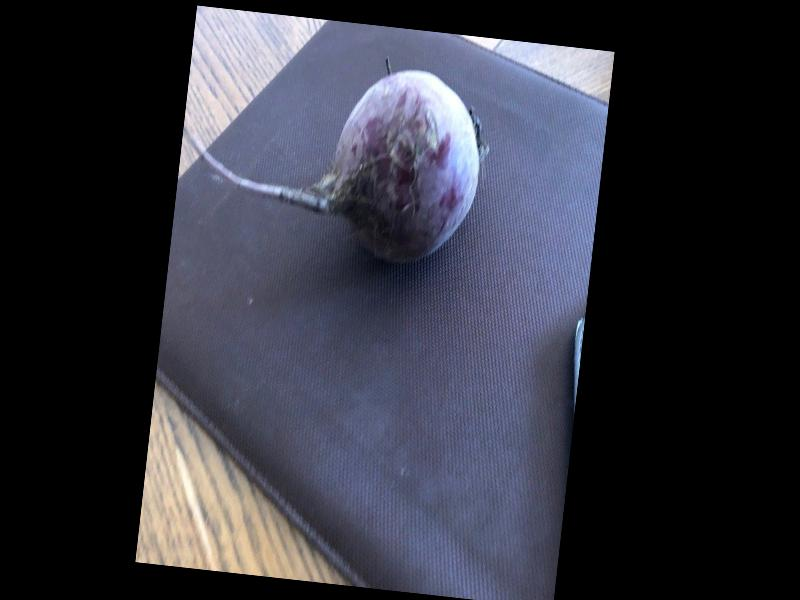Beet: (173, 47, 489, 269)
